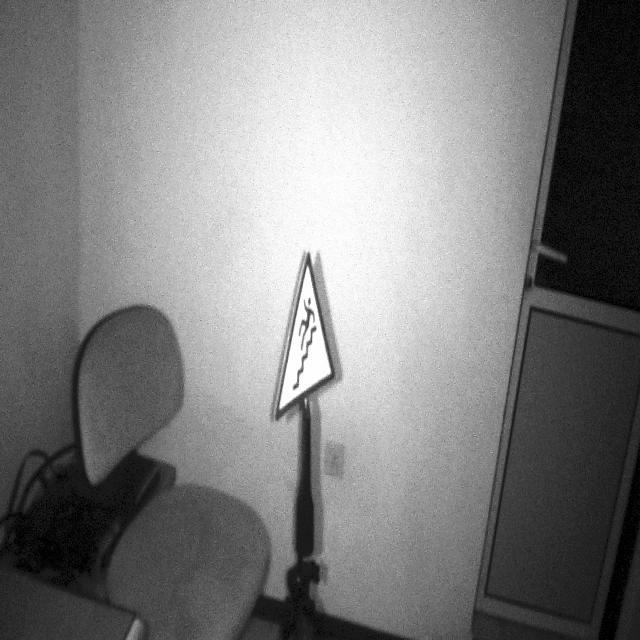Sign: (273, 248, 337, 425)
